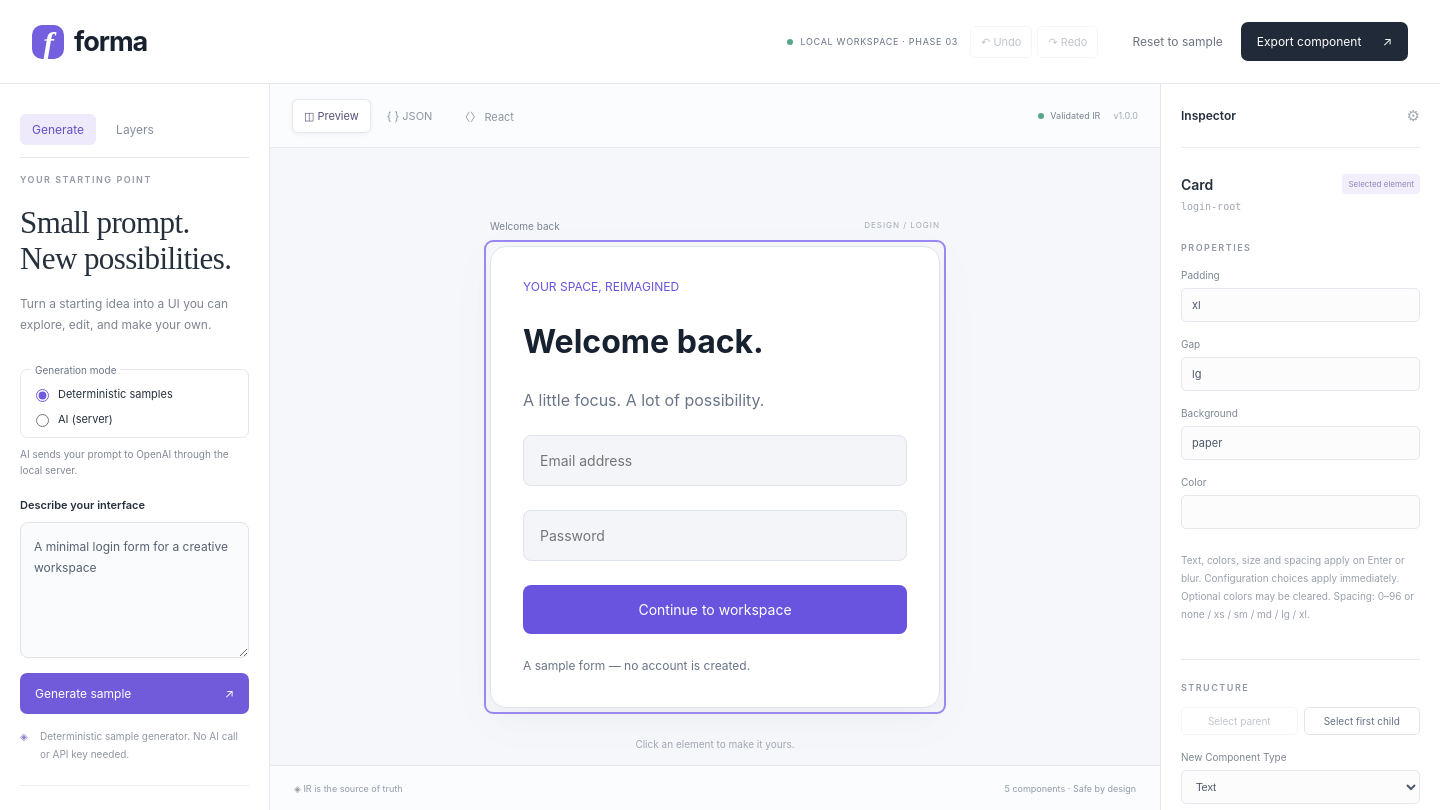
AI client integration › shows loading and cancels with AbortController; a late success cannot replace the design
Expected: the text "AI sends your prompt to OpenAI through the local server." is shown, [20, 446, 249, 478]
Click the radio button labelled "AI (server)": (42,420) [36, 414, 49, 427]
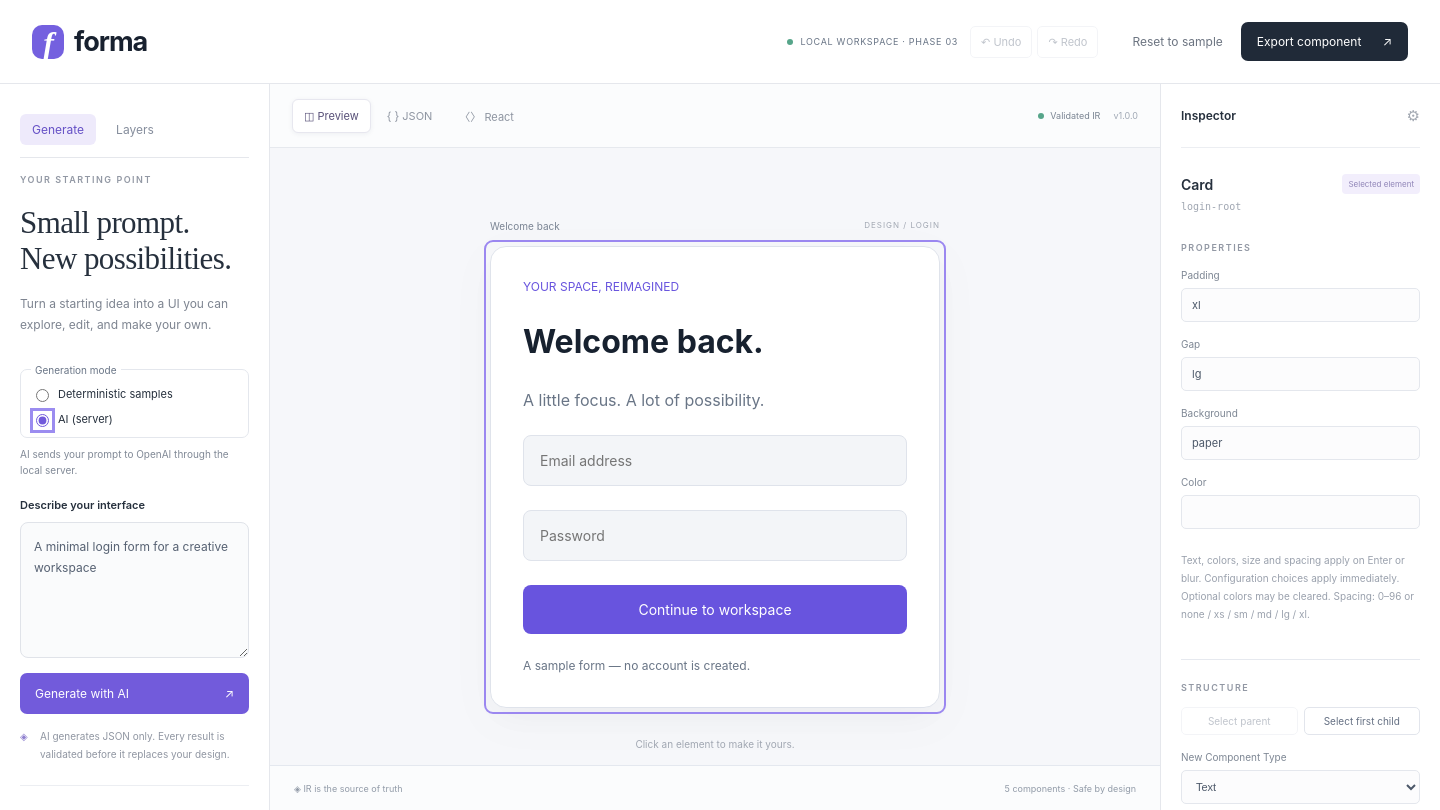
Click the button "Generate with AI ↗": (134,693) [20, 673, 249, 714]
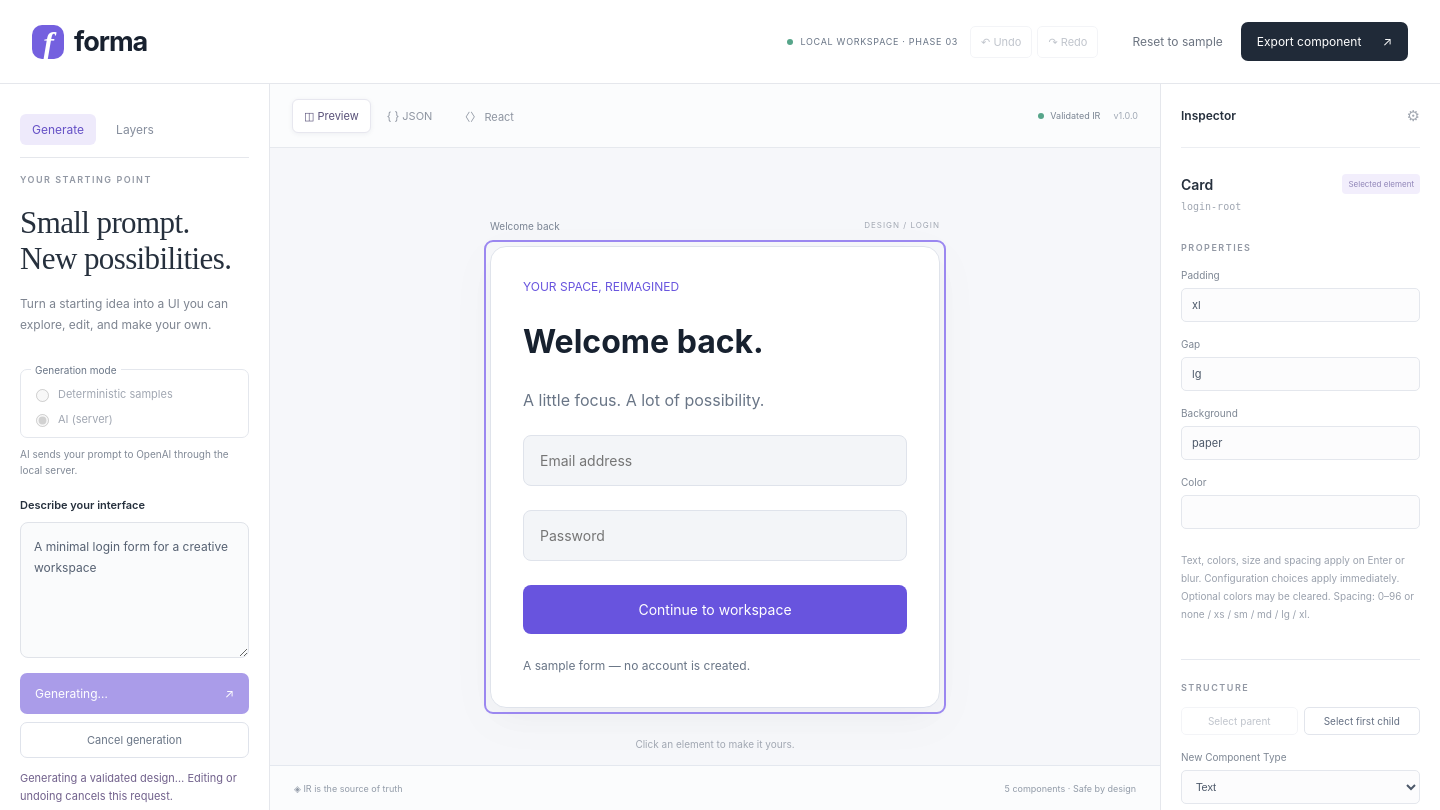
Expected: the button "Generating… ↗" is shown, [20, 673, 249, 714]
Click the button "Cancel generation": (134,740) [20, 722, 249, 758]
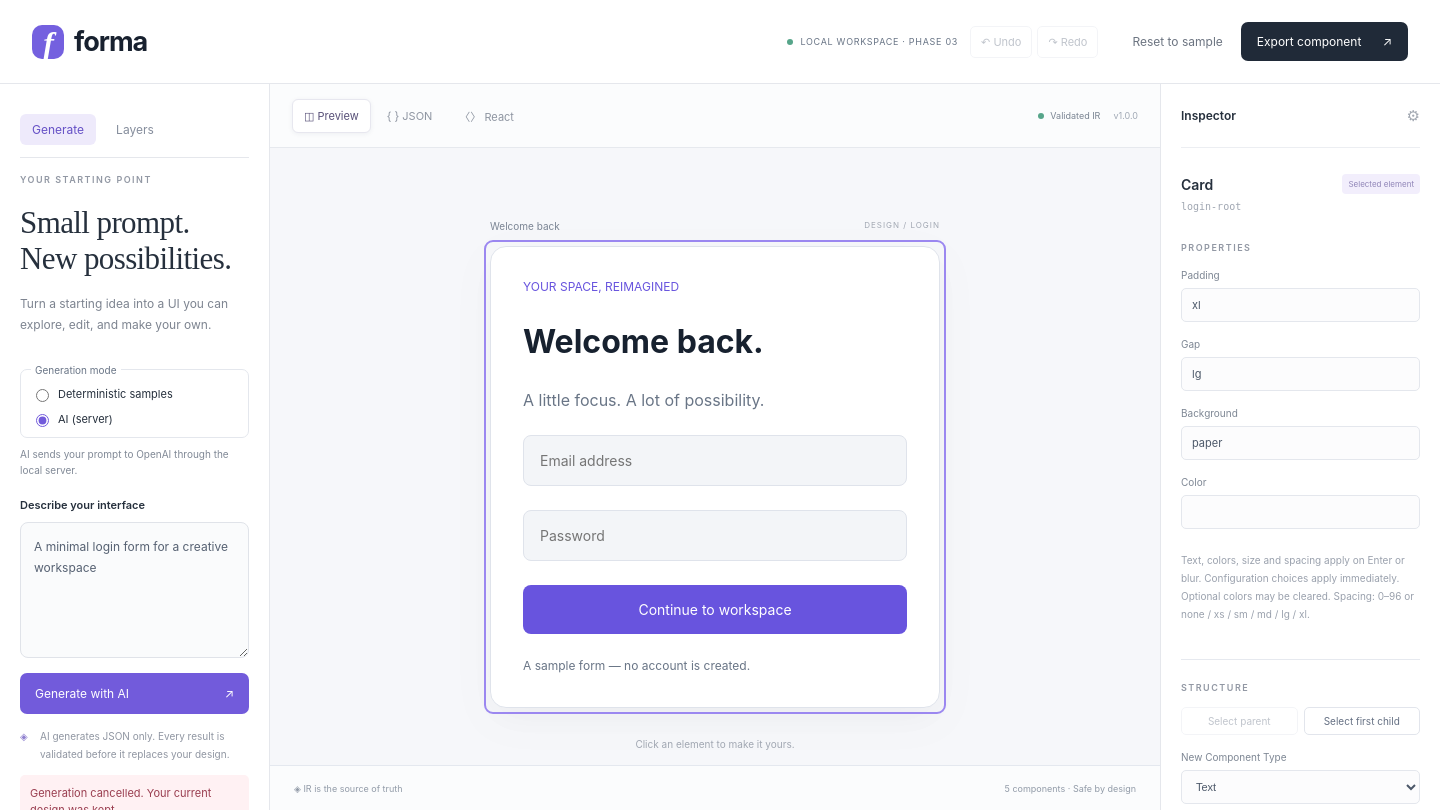
Expected: the text "Welcome back." is shown, [523, 322, 764, 361]
Expected: the message shows "cancelled", [30, 786, 214, 809]
